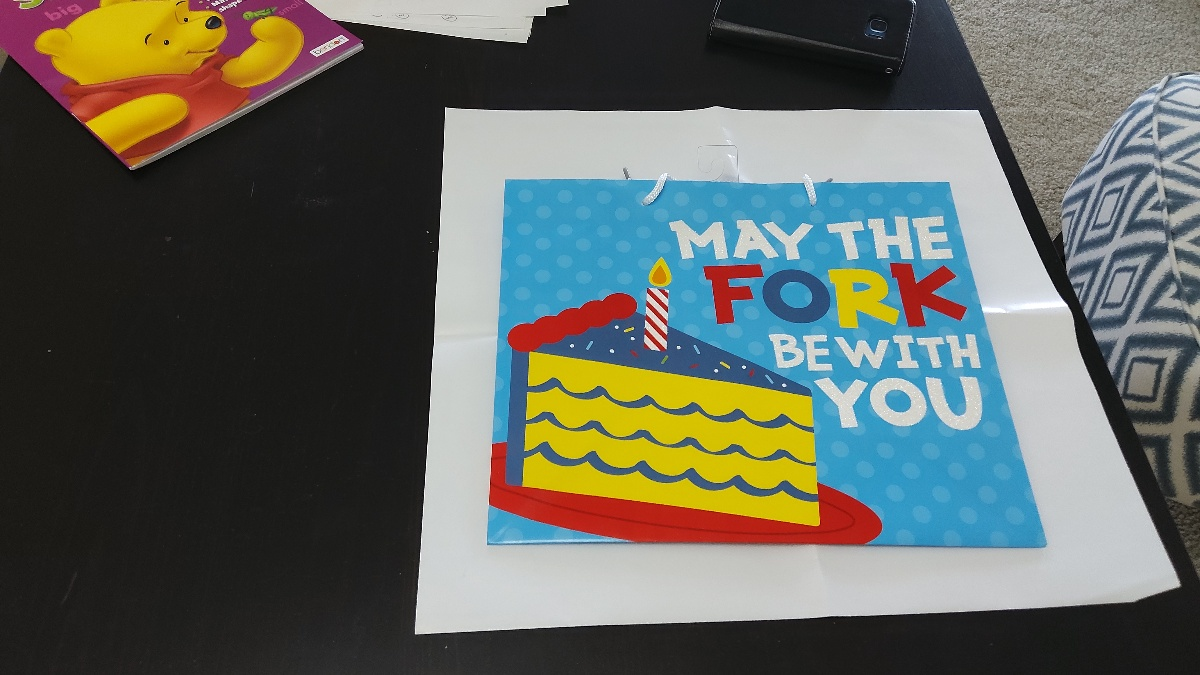paper_bag: (508, 183, 966, 544)
